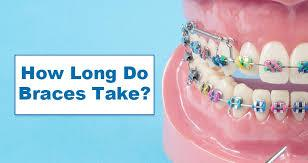Braces: (180, 18, 308, 120)
